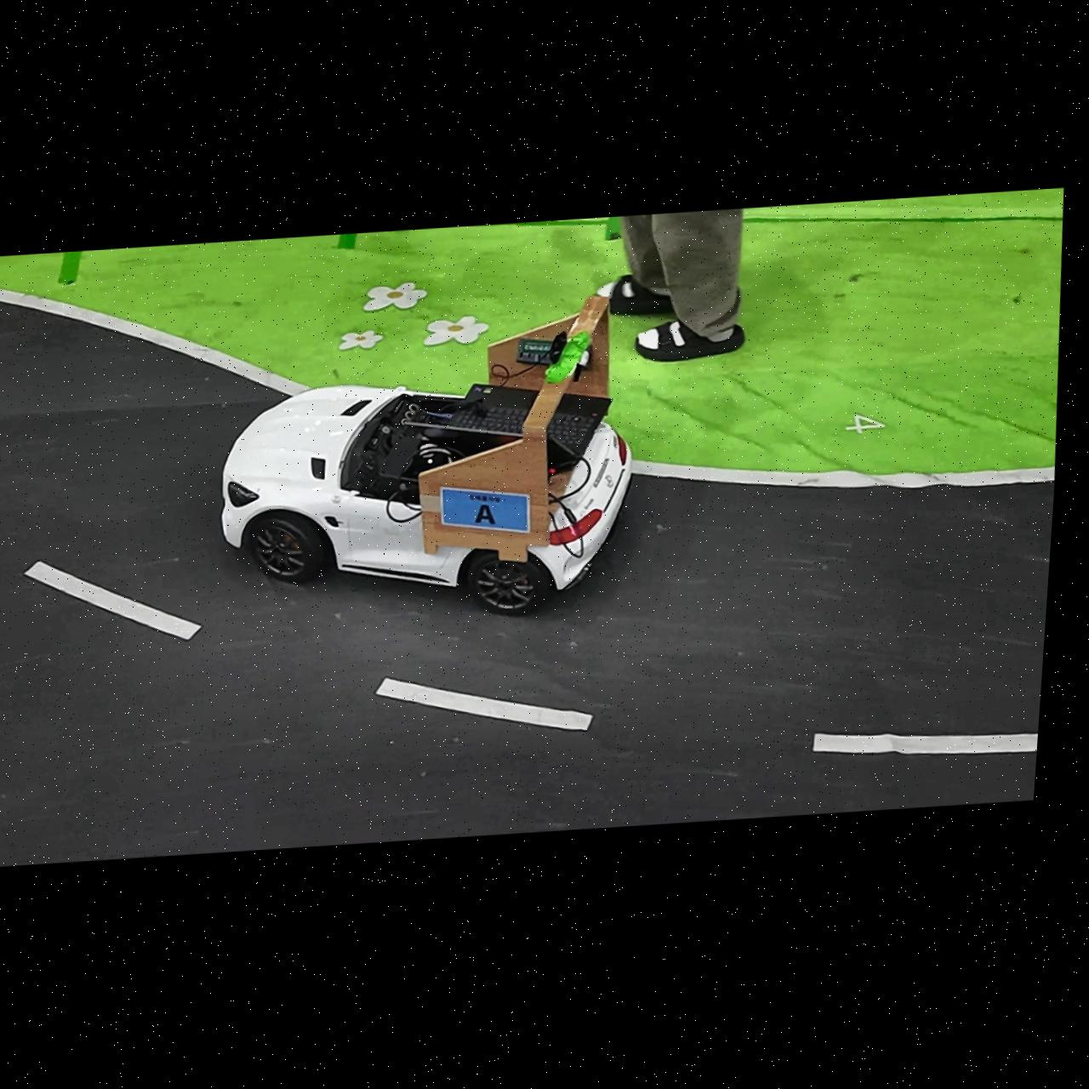broken_line: (23, 561, 201, 640), (375, 677, 593, 730), (812, 733, 1038, 754)
